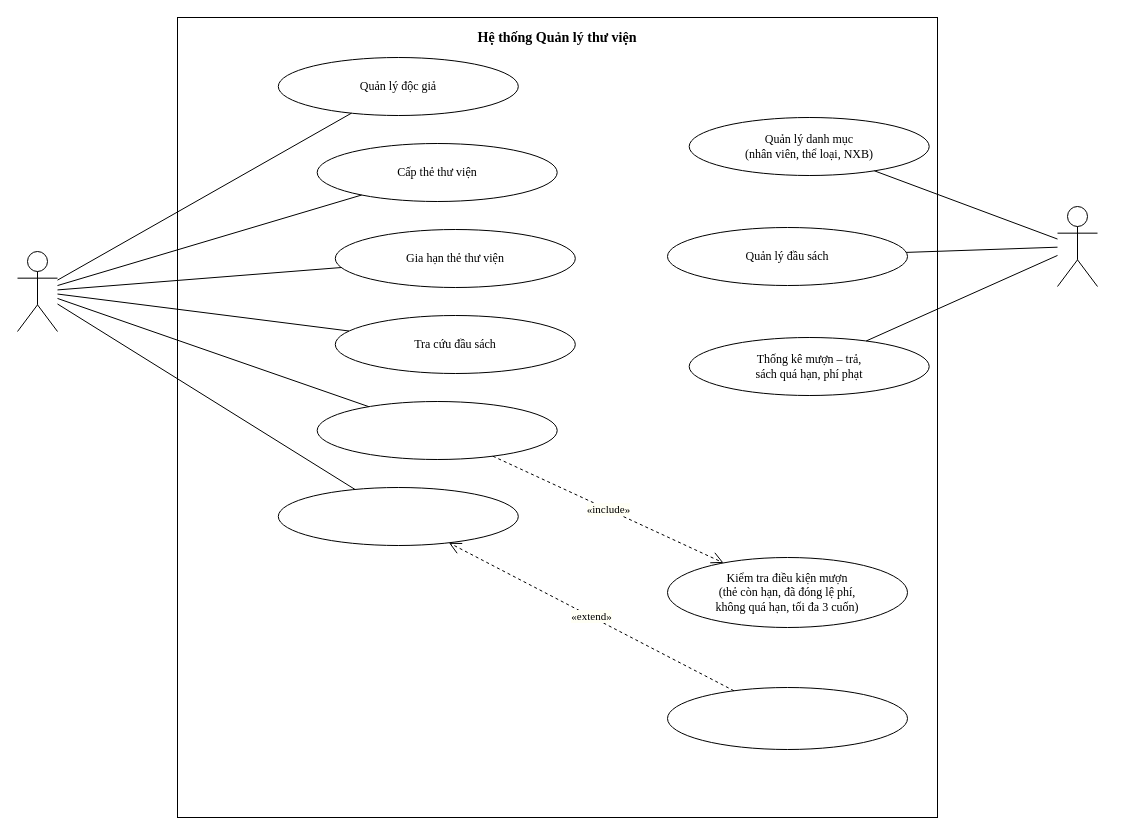
The diagram is 1139 pixels wide and 835 high, and some of its shapes have lost their labels. Here are the shapes that lost their labels. From the top down, the centre of each, then its label:
At point 1077,246: "Quản lý thư viện".
At point 37,291: "Thủ thư".
At point 436,430: "Lập phiếu mượn sách".
At point 397,516: "Trả sách".
At point 787,718: "Lập phiếu phạt (trễ hạn / mất / hư hỏng)".
